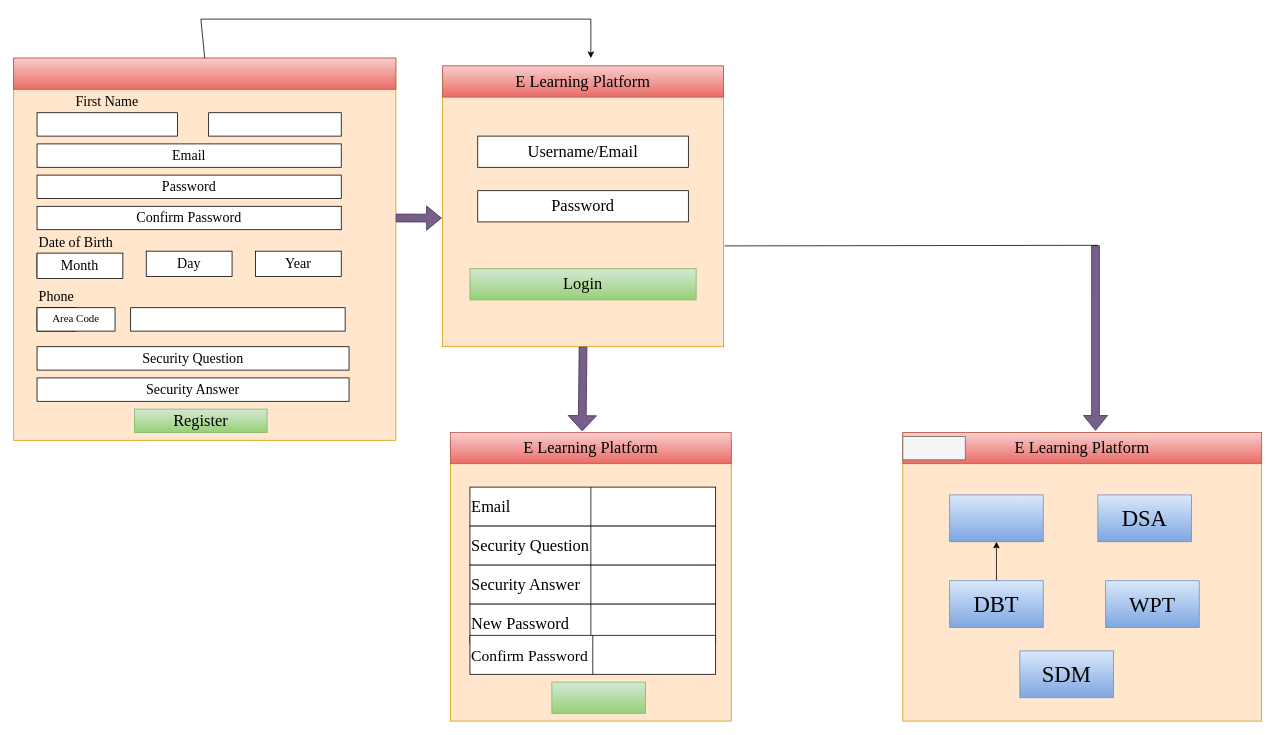
The diagram is 1275 pixels wide and 735 high, and some of its shapes have lost their labels. The centre of each missing label's shape, as x and y in pixels:
"Java" goes at point (996, 518).
"Last Name" goes at point (274, 124).
"NavBar" goes at point (933, 448).
"Registration Form" goes at point (204, 73).
"Submit" goes at point (598, 697).
